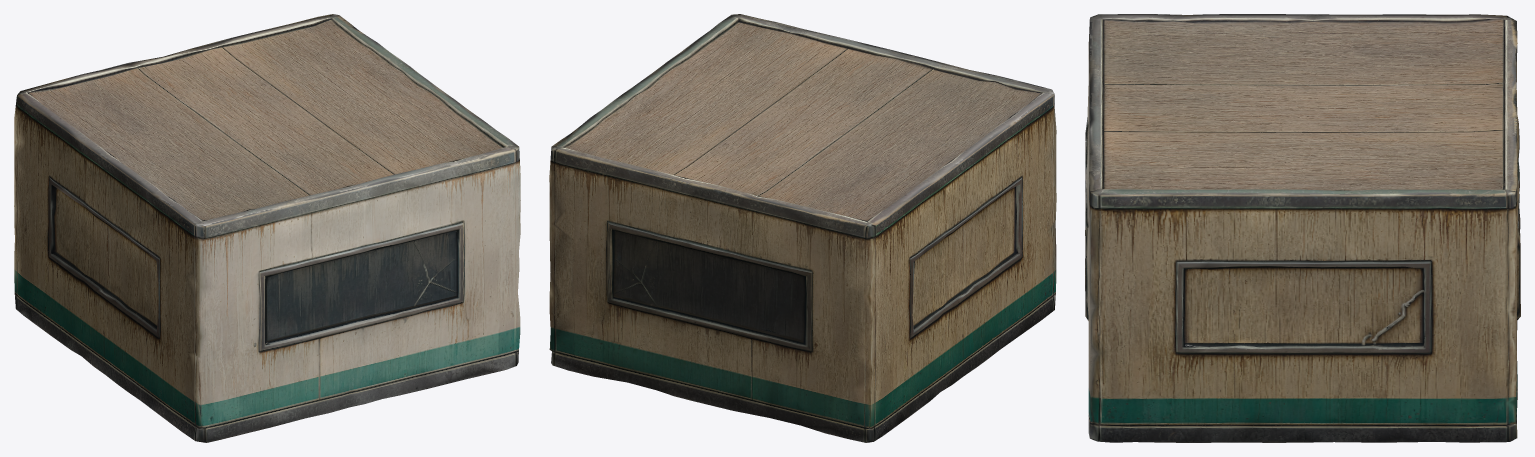
File: EX_Lab_WallWindow.fbx
3 views of the same model, side by side, from view 1: azimuth 30°, elevation 25°; view 2: azimuth 150°, elevation 25°; view 3: azimuth 270°, elevation 25° (orthographic). The views are drawn at different scales.
Parts seen in each view (by area): view 1: texture_mapping; view 2: texture_mapping; view 3: texture_mapping.
Boxes of the visible parts, left/top/right/bottom form: texture_mapping: left=14, top=14, right=520, bottom=442; texture_mapping: left=549, top=14, right=1056, bottom=442; texture_mapping: left=1085, top=14, right=1520, bottom=442.
Size of the model in its own units: 0.9867 by 0.994 by 0.629.
Materials: 1 (1 with a texture image).
